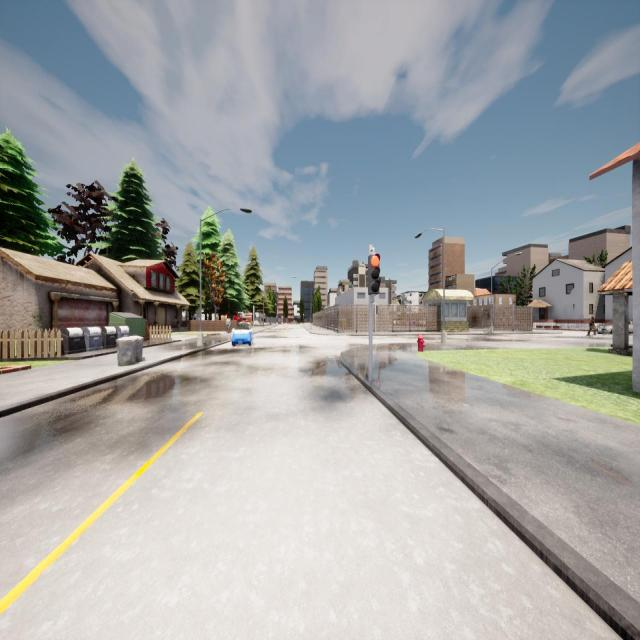Pedestrian: (588, 316, 596, 338), (227, 317, 230, 333)
Vehicle: (597, 321, 633, 334), (232, 323, 252, 346)
traffic_light: (368, 255, 379, 294), (376, 306, 378, 314), (303, 313, 304, 317)
